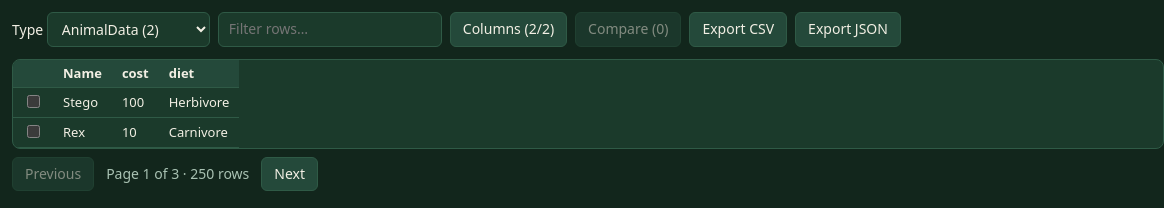
Test: TableView › pages through the results
Check: the text "Page 1 of 3 · 250 rows" is shown, box [106, 164, 249, 184]
Click the button "Next": {"x": 290, "y": 174} [261, 156, 318, 191]
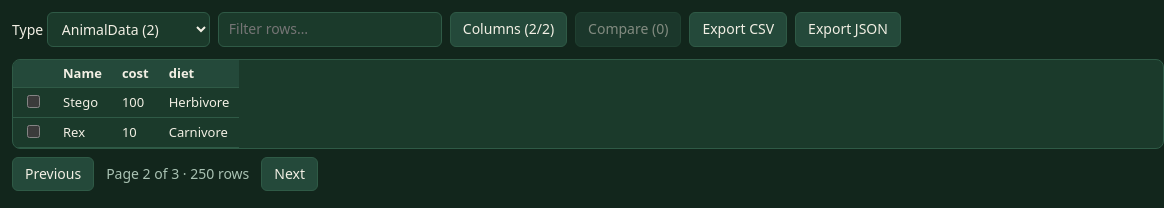
Check: the text "Page 2 of 3 · 250 rows" is shown, box [106, 164, 249, 184]
